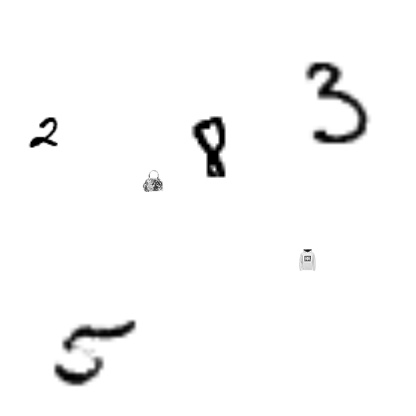2: (23, 113, 65, 155)
3: (278, 47, 390, 159)
5: (31, 293, 143, 405)
8: (168, 102, 252, 186)
Bag: (142, 170, 164, 192)
Pullover: (296, 249, 318, 271)
